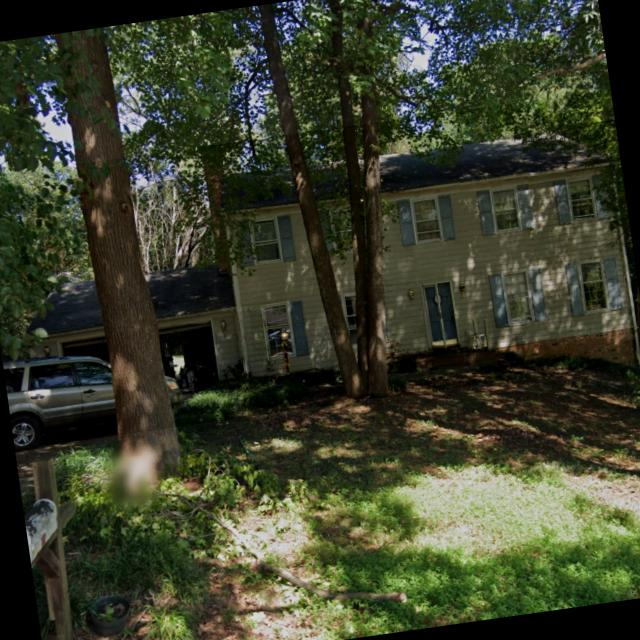House: (4, 89, 640, 445)
